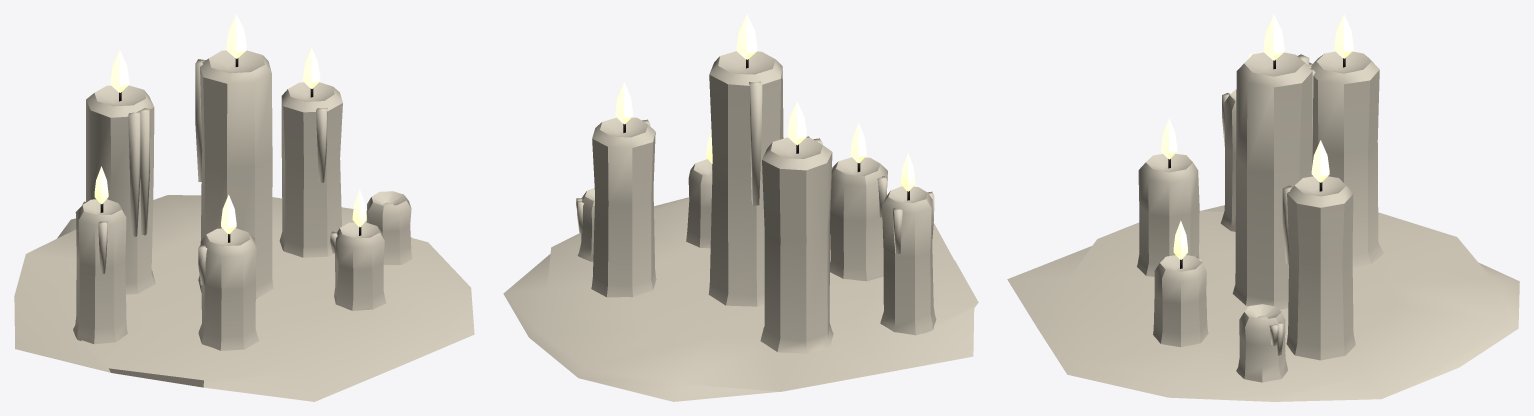
Rendered from candles.glb.
3 renders of one model, left to right at view 1: azimuth 30°, elevation 25°; view 2: azimuth 150°, elevation 25°; view 3: azimuth 270°, elevation 25°, orthographic. The views are drawn at different scales.
Visible parts, largest first — view 1: candles; view 2: candles; view 3: candles.
Part boxes in pixels (<box>): candles: <box>14,14,474,401</box>; candles: <box>503,14,978,401</box>; candles: <box>1007,14,1519,401</box>.
Bounding box in the file's own units: 0.8476 × 0.5507 × 0.88.
